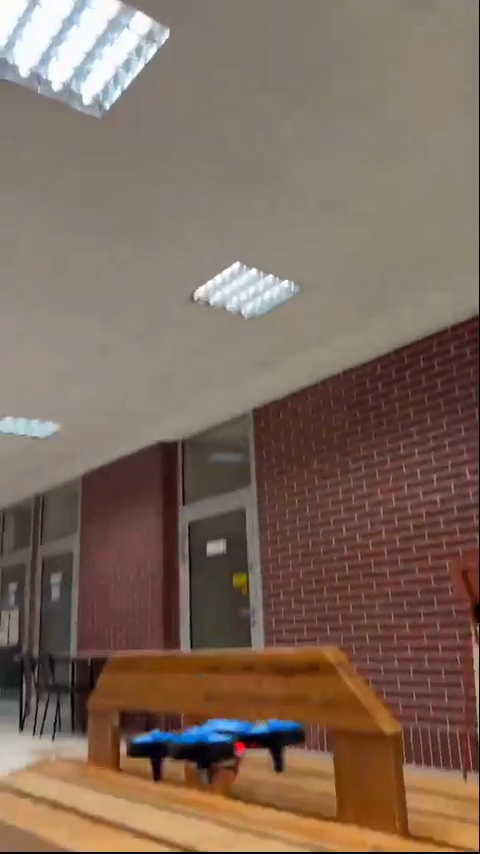drone: (129, 718, 307, 770)
